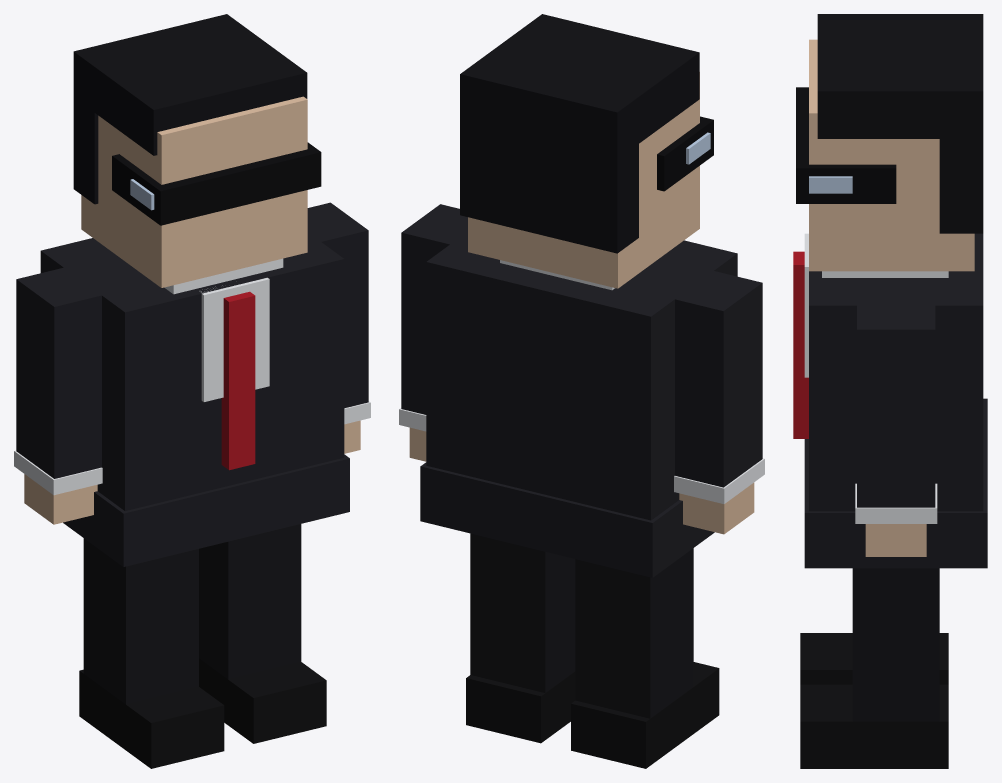
File: suitman.obj
3 renders of one model, left to right at view 1: azimuth 30°, elevation 25°; view 2: azimuth 150°, elevation 25°; view 3: azimuth 270°, elevation 25°, orthographic. The views are drawn at different scales.
Visible parts, largest first — view 1: suitman; view 2: suitman; view 3: suitman.
Boxes of the visible parts, x1,y1,x2,y2 form: suitman: (14, 14, 370, 768); suitman: (399, 14, 764, 768); suitman: (793, 14, 987, 768).
Size of the model in its own units: 0.434 by 0.85 by 0.223.
1 material, 1 textured.
